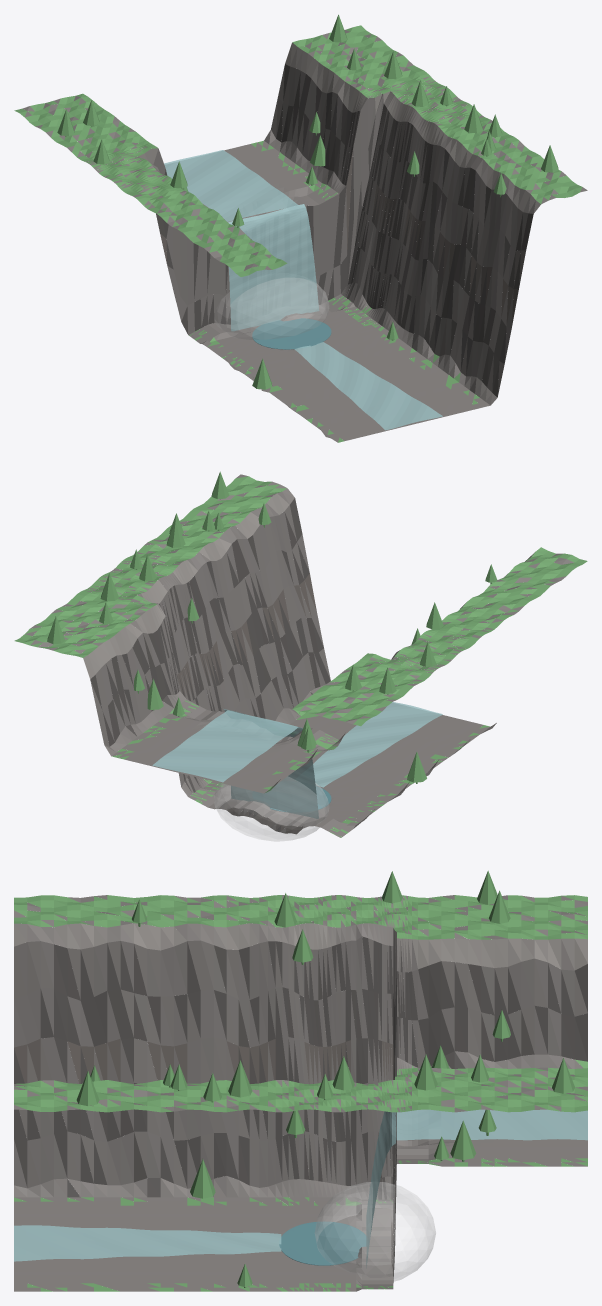
Rendered from makhuntseti-lod1.glb.
3 renders of one model, top to bottom at view 1: azimuth 30°, elevation 25°; view 2: azimuth 150°, elevation 25°; view 3: azimuth 270°, elevation 25°, orthographic. The views are drawn at different scales.
Visible parts, largest first — view 1: makhuntseti_rock, makhuntseti_veg, makhuntseti_rockDark, makhuntseti_water, makhuntseti_mist, makhuntseti_cap, makhuntseti_soft, makhuntseti_waterPool; view 2: makhuntseti_rock, makhuntseti_veg, makhuntseti_rockDark, makhuntseti_water, makhuntseti_mist, makhuntseti_cap, makhuntseti_soft; view 3: makhuntseti_rock, makhuntseti_veg, makhuntseti_rockDark, makhuntseti_water, makhuntseti_mist, makhuntseti_cap, makhuntseti_soft, makhuntseti_waterPool.
Boxes of the visible parts, x1,y1,x2,y2 form: makhuntseti_rock: (22, 30, 587, 442); makhuntseti_veg: (14, 14, 582, 442); makhuntseti_rockDark: (156, 64, 533, 397); makhuntseti_water: (164, 150, 442, 430); makhuntseti_mist: (214, 278, 328, 339); makhuntseti_cap: (138, 42, 530, 212); makhuntseti_soft: (160, 148, 518, 327); makhuntseti_waterPool: (252, 318, 331, 349); makhuntseti_rock: (25, 474, 573, 837); makhuntseti_veg: (14, 471, 587, 837); makhuntseti_rockDark: (90, 498, 330, 832); makhuntseti_water: (152, 702, 442, 818); makhuntseti_mist: (214, 776, 328, 841); makhuntseti_cap: (83, 493, 289, 679); makhuntseti_soft: (177, 573, 316, 834); makhuntseti_rock: (14, 895, 587, 1291); makhuntseti_veg: (14, 870, 587, 1291); makhuntseti_rockDark: (14, 936, 587, 1281); makhuntseti_water: (14, 1109, 587, 1267); makhuntseti_mist: (315, 1182, 435, 1281); makhuntseti_cap: (14, 923, 587, 1079); makhuntseti_soft: (14, 1039, 411, 1269); makhuntseti_waterPool: (279, 1221, 366, 1265).
Size of the model in its own units: 23.87 by 15.94 by 27.
